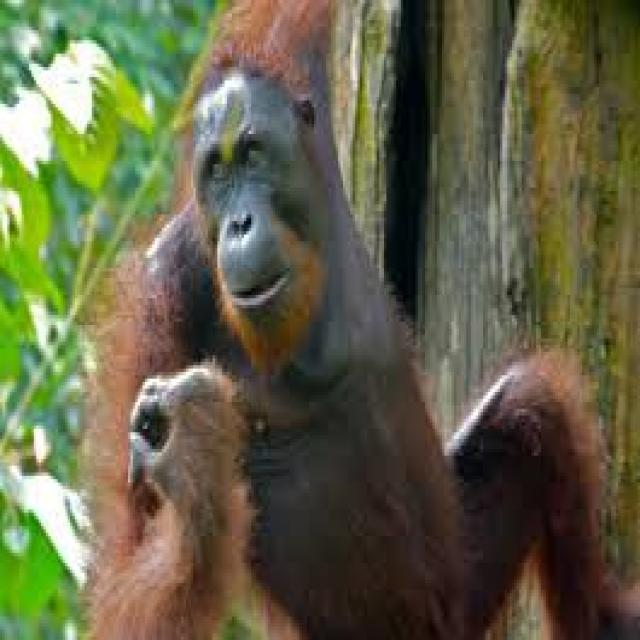Orangutan: (102, 13, 600, 640)
